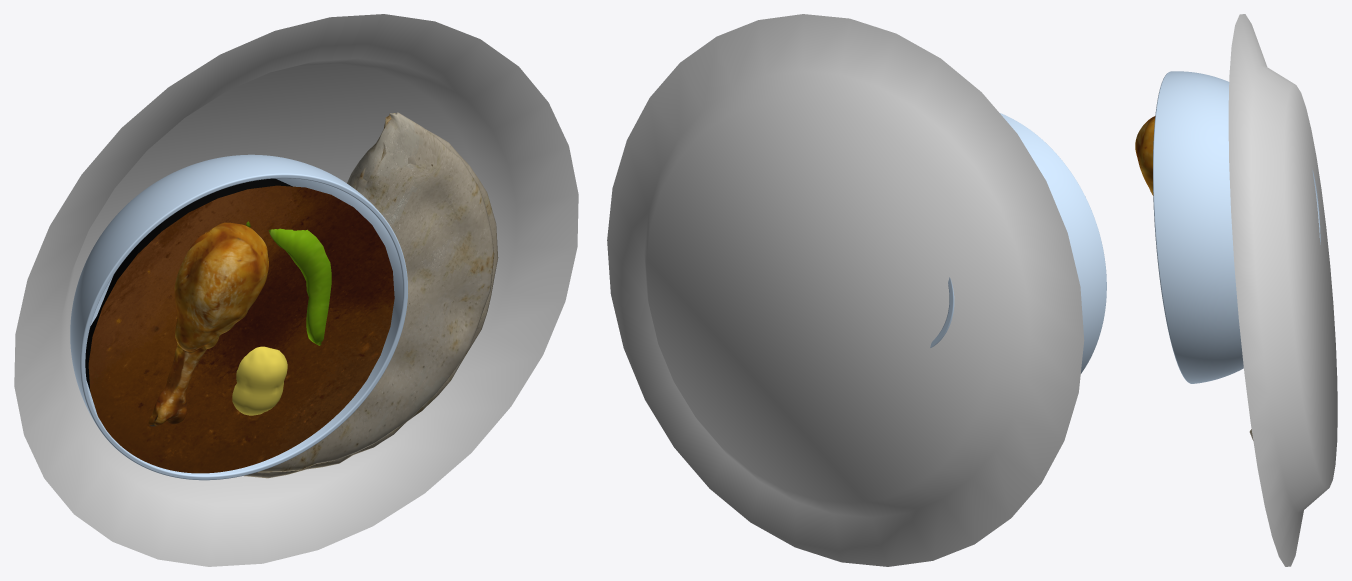
Rendered from cutty.glb.
3 views of the same model, side by side, from view 1: azimuth 30°, elevation 25°; view 2: azimuth 150°, elevation 25°; view 3: azimuth 270°, elevation 25° (orthographic). The views are drawn at different scales.
Parts seen in each view (by area): view 1: Circle.002, coffee.004, Cylinder.001, Kugel.005, 15513_Fried_Chicken_Drumstick_v1.001, Vert, Sphere.001; view 2: Circle.002, Kugel.005; view 3: Circle.002, Kugel.005, 15513_Fried_Chicken_Drumstick_v1.001.
Boxes of the visible parts, <box> form: Circle.002: <box>14,14,578,566</box>; coffee.004: <box>85,178,394,473</box>; Cylinder.001: <box>244,112,498,478</box>; Kugel.005: <box>70,154,407,480</box>; 15513_Fried_Chicken_Drumstick_v1.001: <box>148,222,268,426</box>; Vert: <box>246,221,331,345</box>; Sphere.001: <box>232,346,287,415</box>; Circle.002: <box>607,14,1084,566</box>; Kugel.005: <box>930,113,1106,373</box>; Circle.002: <box>1228,14,1337,566</box>; Kugel.005: <box>1153,71,1320,383</box>; 15513_Fried_Chicken_Drumstick_v1.001: <box>1135,116,1155,195</box>.
Size of the model in its own units: 8.73 by 8.68 by 3.18.
Materials: 7 (4 with a texture image).
